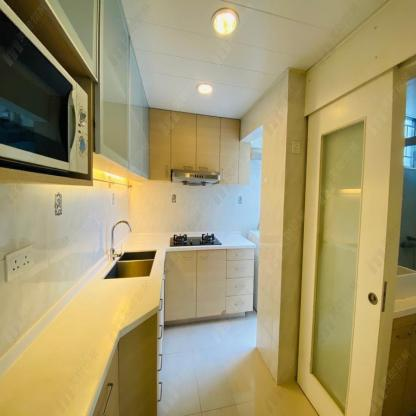Cupboard: (98, 1, 249, 186), (163, 250, 255, 322)
Exhaust Hood: (171, 169, 220, 186), (171, 169, 219, 185)
Faucet: (109, 214, 133, 253)
Sink: (87, 245, 163, 287), (104, 247, 156, 278)
Stove: (166, 231, 226, 250), (166, 232, 223, 245)
